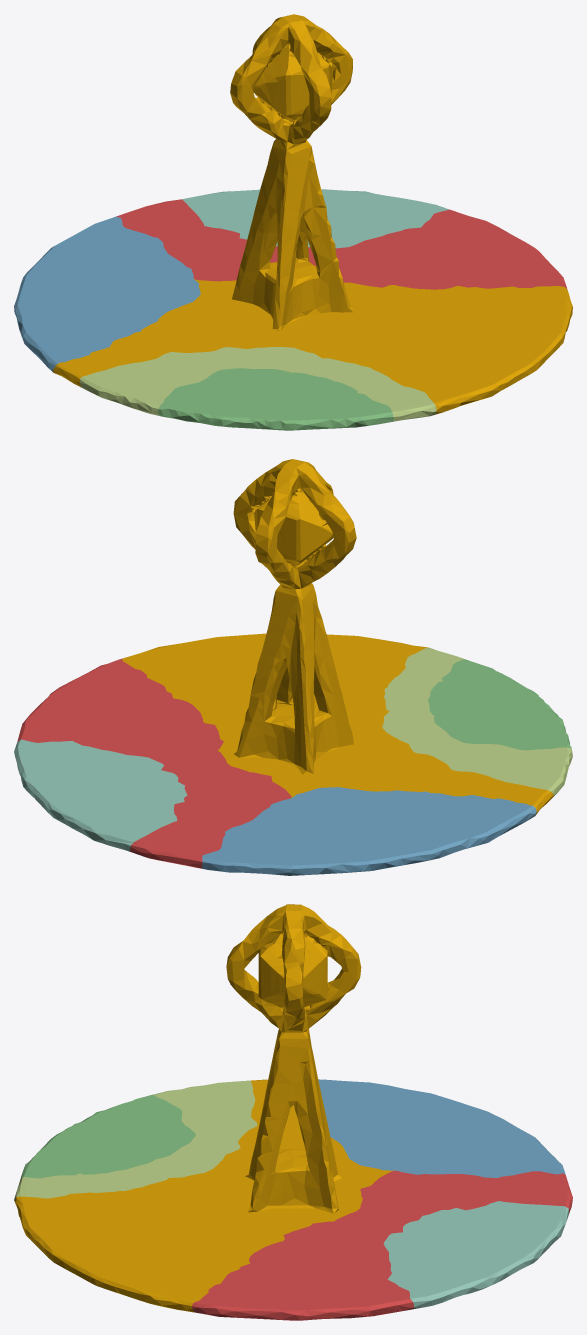
File: fractured_53_6pcs.glb
3 views of the same model, one above another, from view 1: azimuth 30°, elevation 25°; view 2: azimuth 150°, elevation 25°; view 3: azimuth 270°, elevation 25° (orthographic).
Parts seen in each view (by area): view 1: piece_0.obj, piece_1.obj, piece_2.obj, piece_3.obj, piece_5.obj, piece_4.obj; view 2: piece_0.obj, piece_1.obj, piece_2.obj, piece_4.obj, piece_5.obj, piece_3.obj; view 3: piece_0.obj, piece_1.obj, piece_2.obj, piece_4.obj, piece_5.obj, piece_3.obj.
Part boxes in pixels (box(x1,y1,x2,y2)): piece_0.obj: box(53, 14, 572, 414); piece_1.obj: box(116, 199, 567, 289); piece_2.obj: box(14, 216, 200, 372); piece_3.obj: box(158, 368, 393, 430); piece_5.obj: box(80, 347, 436, 421); piece_4.obj: box(182, 189, 448, 248); piece_0.obj: box(122, 459, 553, 814); piece_1.obj: box(17, 658, 291, 868); piece_2.obj: box(202, 787, 536, 875); piece_4.obj: box(14, 739, 187, 851); piece_5.obj: box(382, 647, 572, 796); piece_3.obj: box(428, 659, 571, 750); piece_0.obj: box(14, 904, 394, 1312); piece_1.obj: box(192, 1170, 572, 1320); piece_2.obj: box(318, 1079, 565, 1177); piece_4.obj: box(383, 1201, 568, 1308); piece_5.obj: box(14, 1080, 257, 1201); piece_3.obj: box(20, 1095, 195, 1178).
Bounding box in the file's own units: 0.9998 × 0.5841 × 1.
